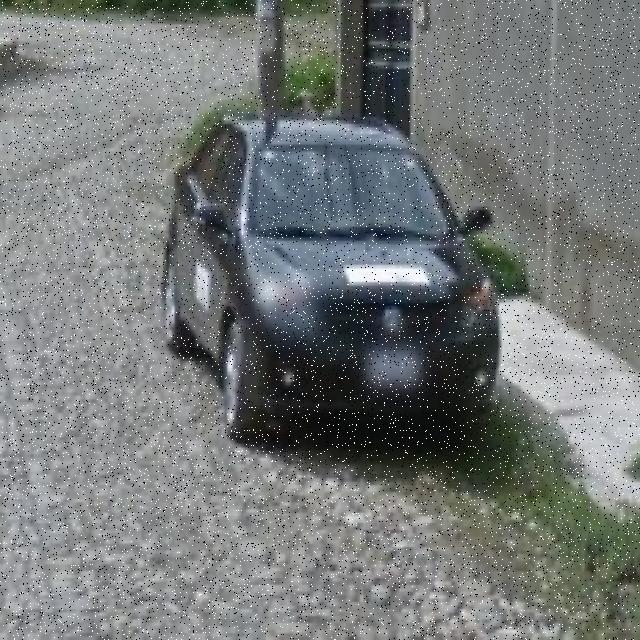cars: (168, 124, 508, 436)
